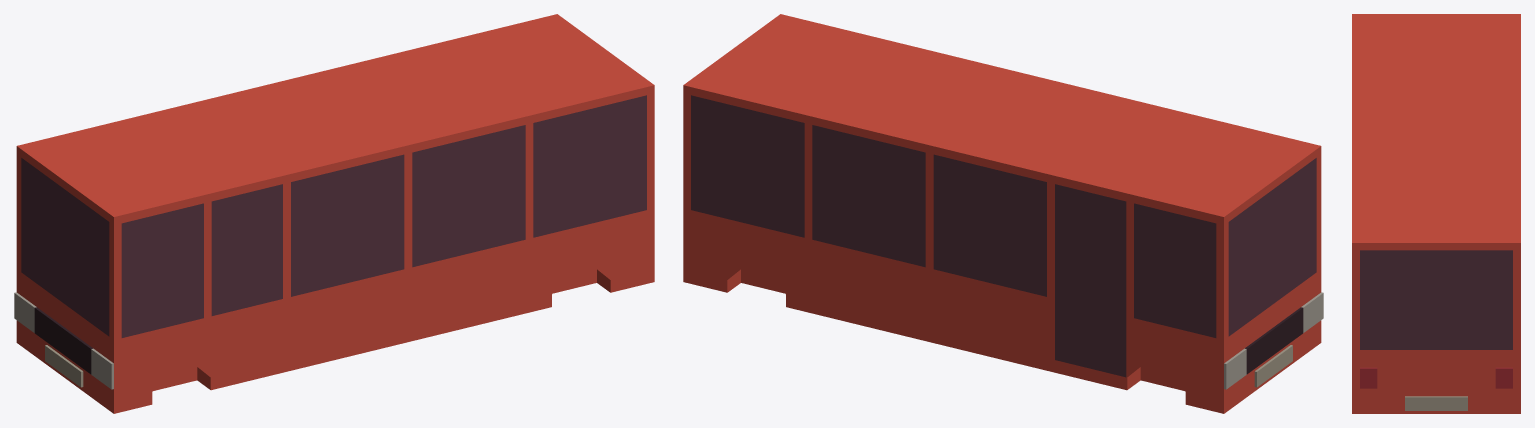
File: Bus_Red.fbx
3 renders of one model, left to right at view 1: azimuth 30°, elevation 25°; view 2: azimuth 150°, elevation 25°; view 3: azimuth 270°, elevation 25°, orthographic. The views are drawn at different scales.
Visible parts, largest first — view 1: Bus_Red, Bus_Lights; view 2: Bus_Red, Bus_Lights; view 3: Bus_Red, Bus_Lights.
Boxes of the visible parts, <box> form: Bus_Red: <box>16,14,654,413</box>; Bus_Lights: <box>14,292,113,389</box>; Bus_Red: <box>683,14,1321,413</box>; Bus_Lights: <box>1224,292,1323,389</box>; Bus_Red: <box>1352,14,1520,413</box>; Bus_Lights: <box>1360,367,1512,388</box>.
Bounding box in the file's own units: 6.96 × 2.4 × 2.15.
